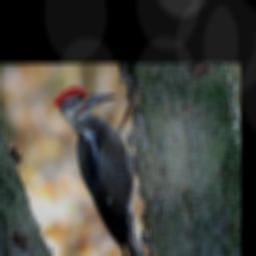Woodpecker: (52, 85, 153, 256)
